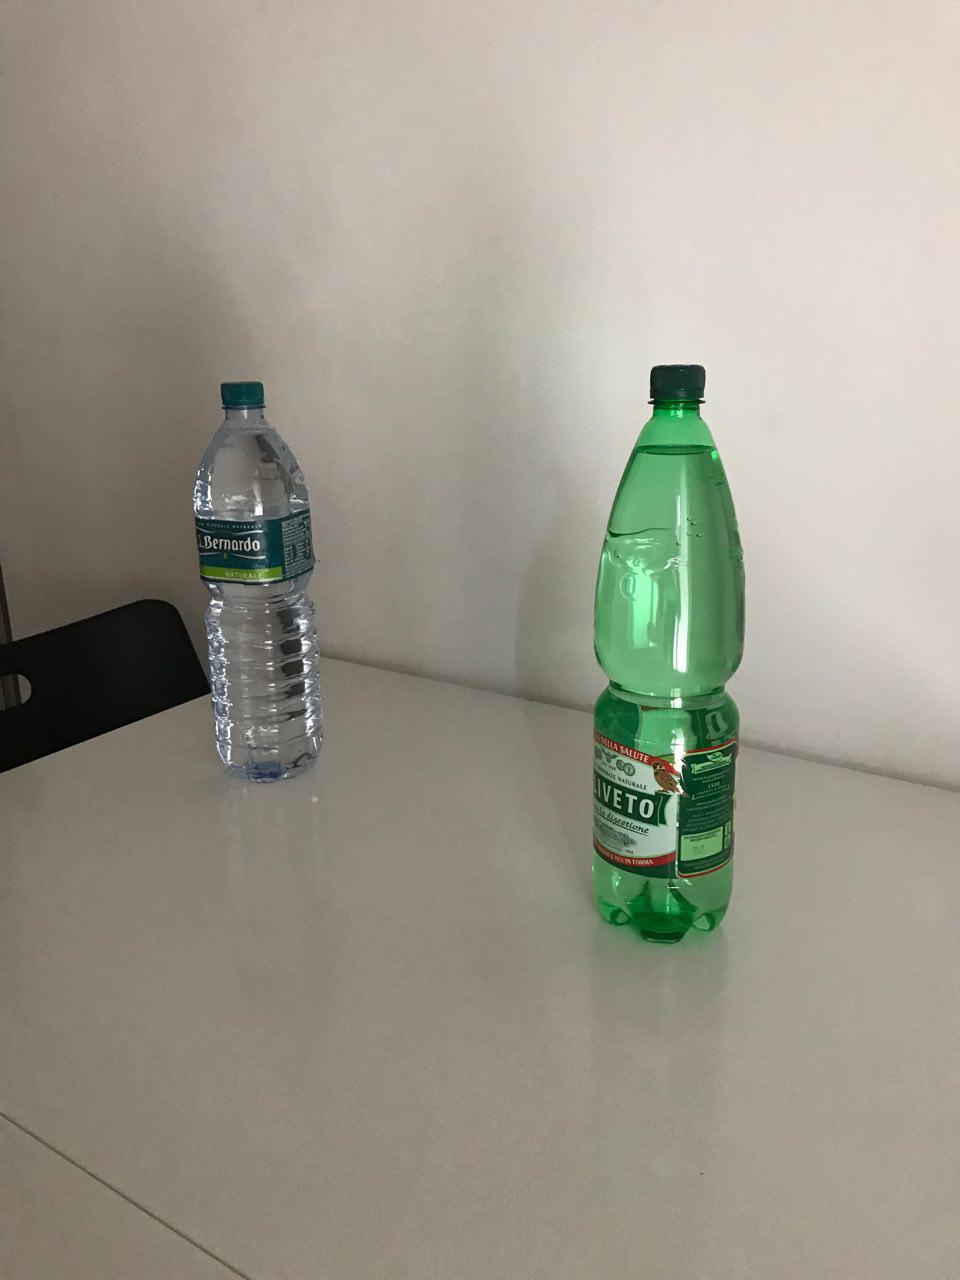san_bernardo: (192, 380, 324, 784)
